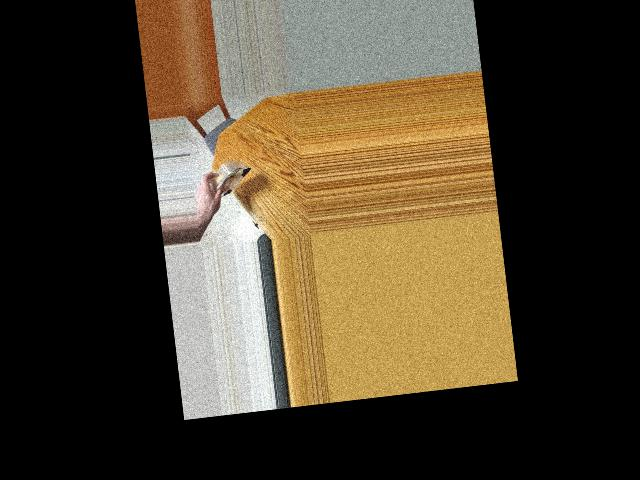cheese: (204, 149, 249, 204)
